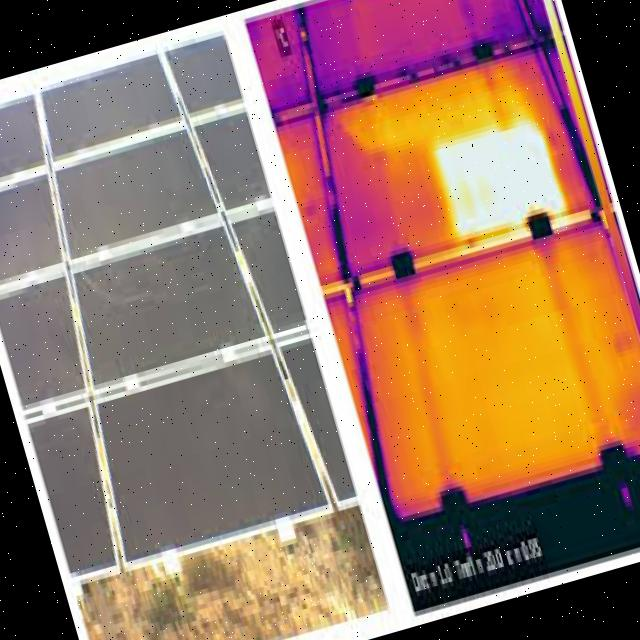Hotspot: (433, 116, 562, 236)
